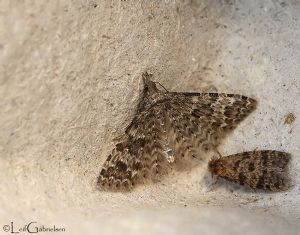Alucitidae: (91, 68, 255, 188), (206, 145, 290, 191)
moth: (93, 70, 257, 190), (206, 144, 290, 190)
